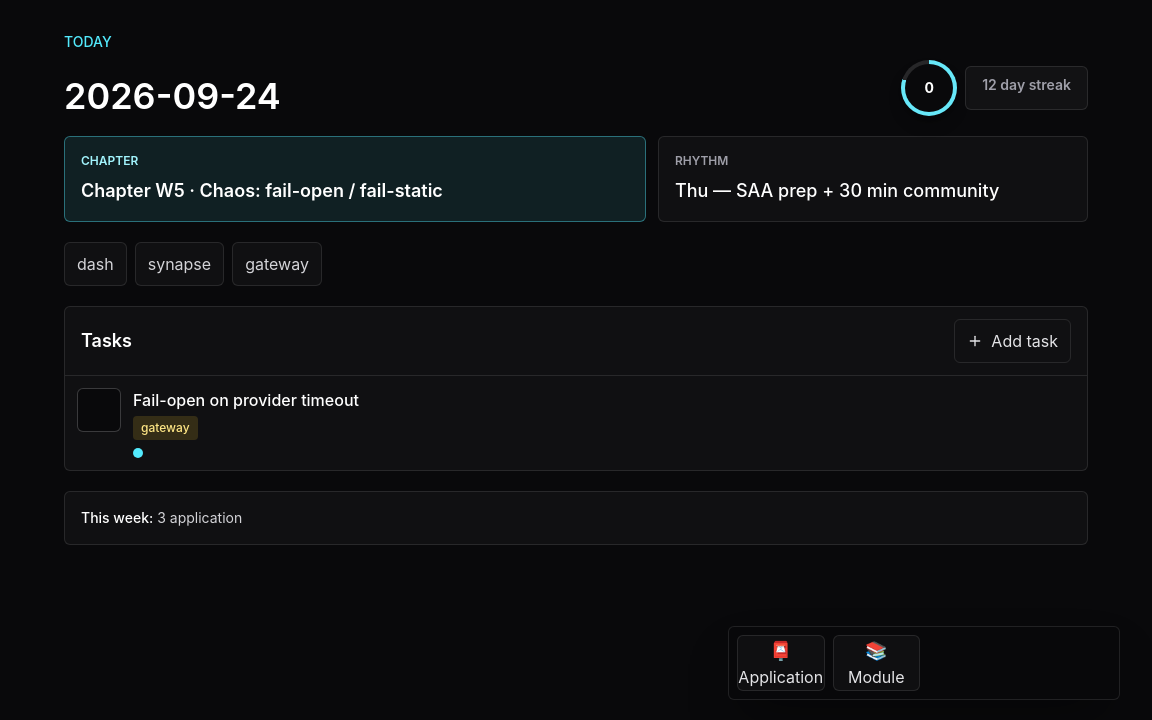
Scenario: TodayPage › edits task skills from the task detail sheet
The width and height of the screenshot is (1152, 720).
Click the button "Fail-open on provider timeout gateway" at (246,400), box [133,388,1075,458]
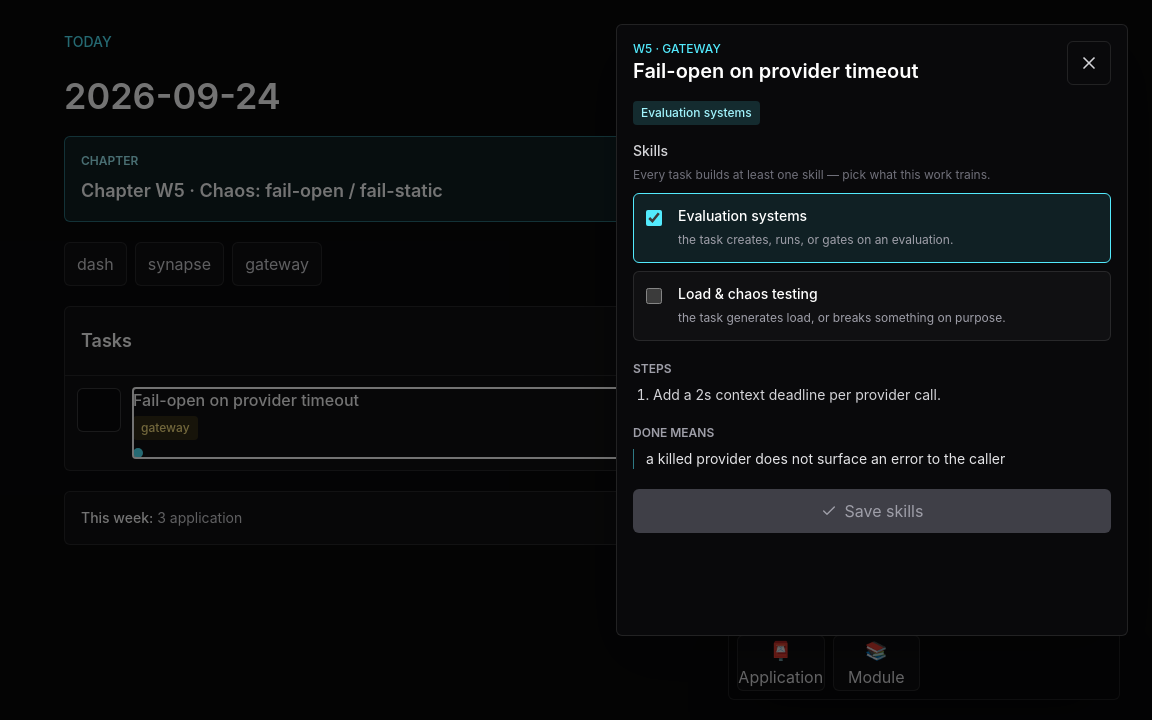
Check: the checkbox labelled "Evaluation systems" is checked, box [646,210,662,226]
Check: the text "the task generates load, or breaks something on purpose." is shown, box [678,310,1006,325]
Click the checkbox labelled "Load & chaos testing" at (654,296), box [646,288,662,304]
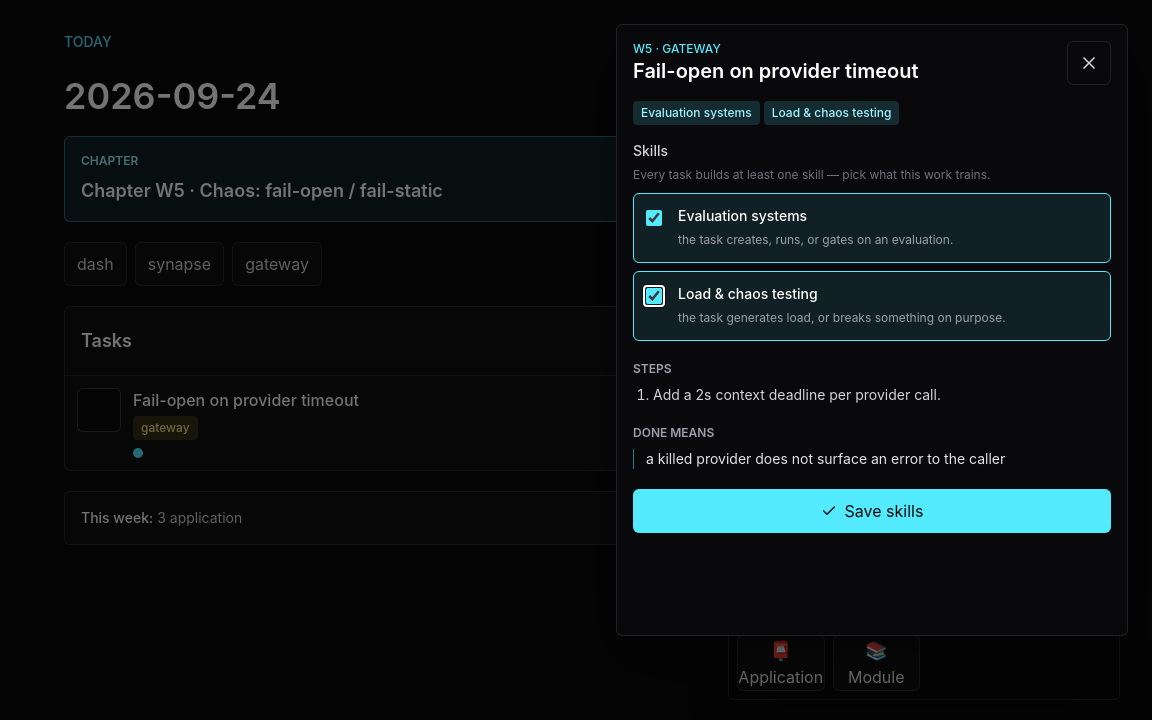
Click the button "Save skills" at (872,511), box [633,489,1111,533]
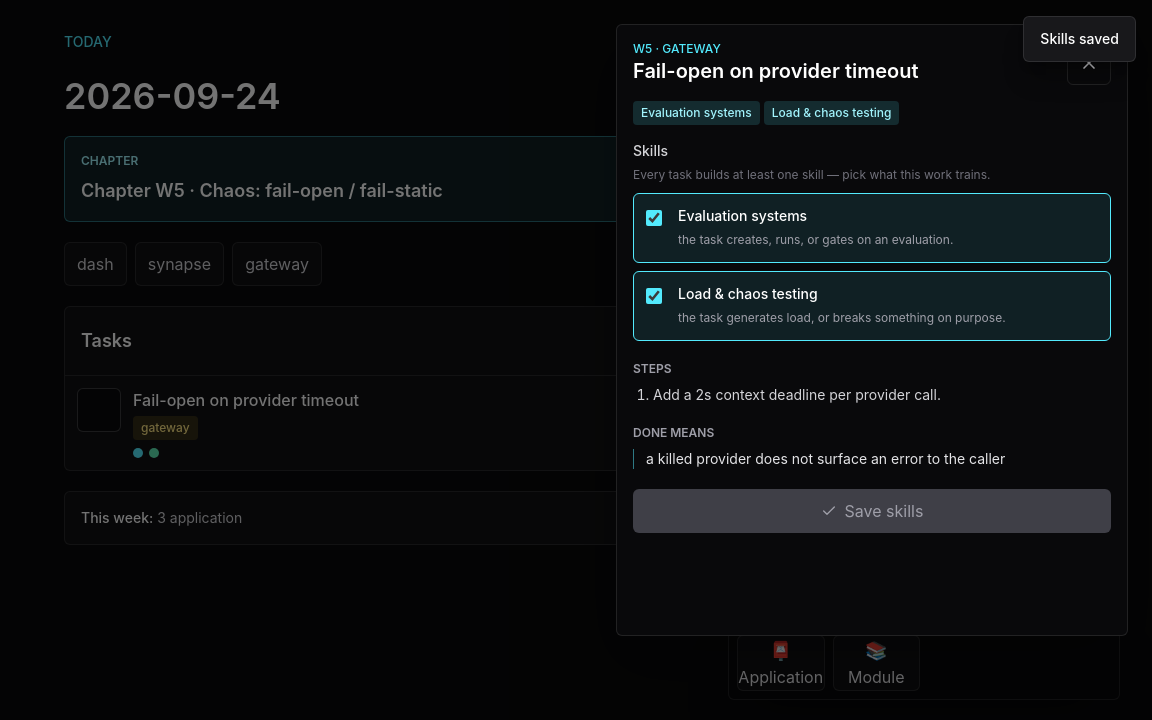
Check: the text "Skills saved" is shown, box [1023,16,1136,62]
